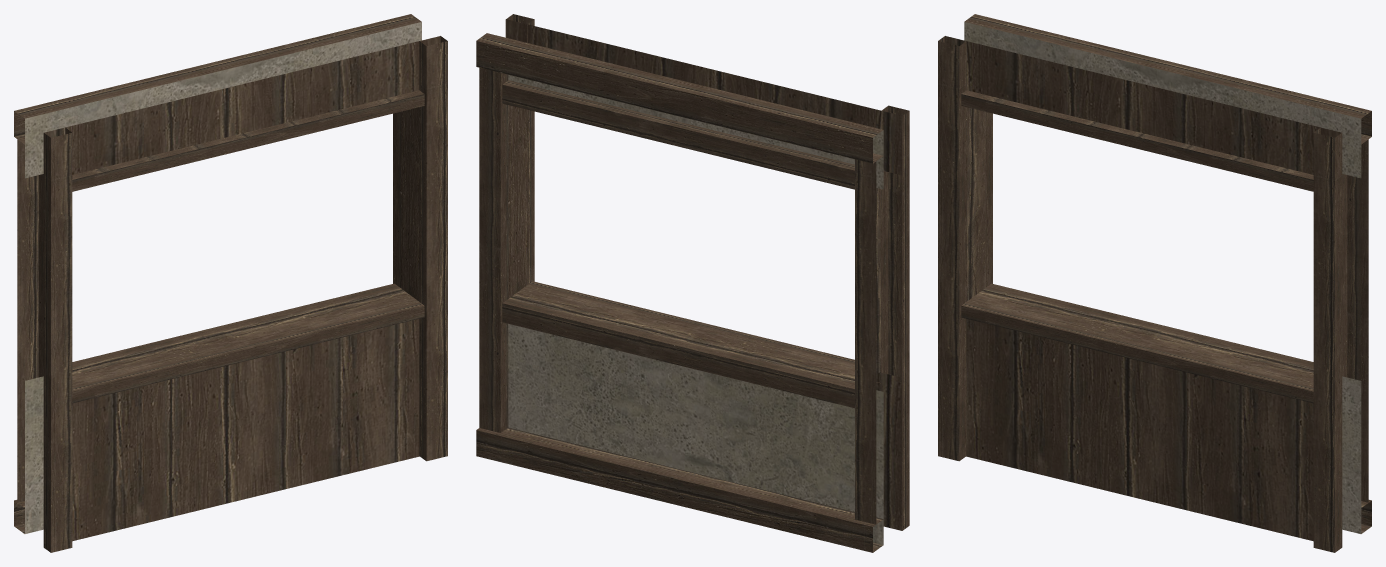
Rendered from ARC1010241.fbx.
3 views of the same model, side by side, from view 1: azimuth 30°, elevation 25°; view 2: azimuth 150°, elevation 25°; view 3: azimuth 330°, elevation 25° (orthographic).
Visible parts, largest first — view 1: smARC1010241; view 2: smARC1010241; view 3: smARC1010241.
Boxes of the visible parts, x1,y1,x2,y2 form: smARC1010241: (14,14,447,552); smARC1010241: (476,14,909,552); smARC1010241: (938,14,1371,552).
Size of the model in its own units: 268 by 268 by 43.17.
1 material, 1 textured.
